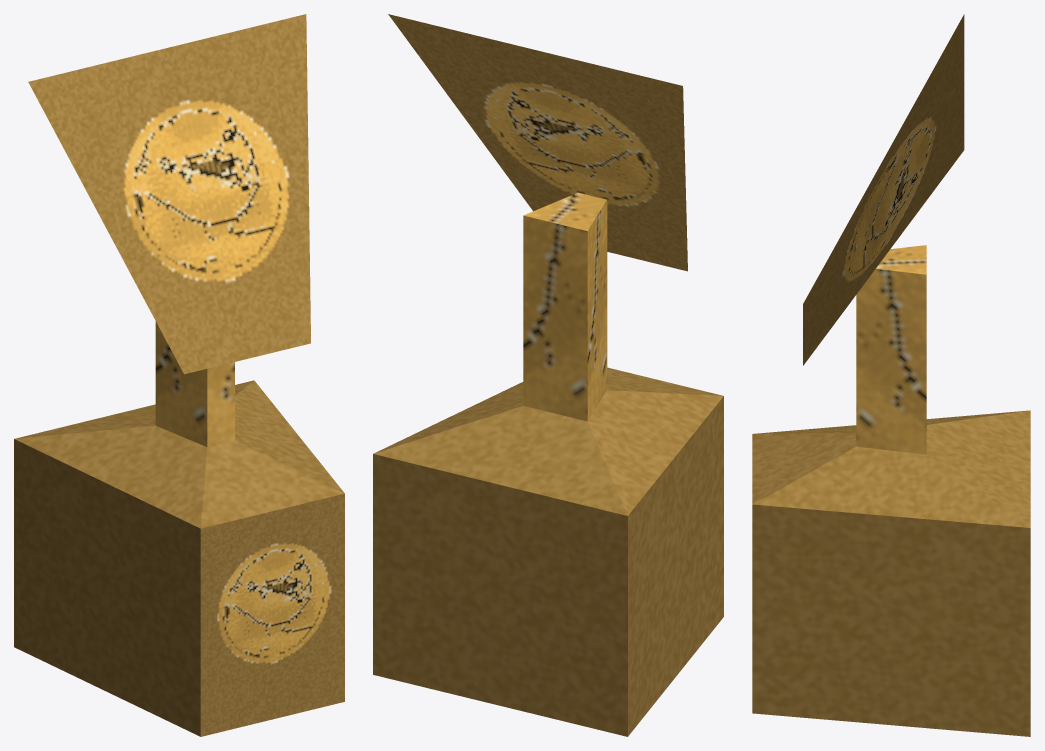
The model's file is lowpolybust.glb.
The picture shows the model from 3 angles, left to right: view 1: azimuth 30°, elevation 25°; view 2: azimuth 150°, elevation 25°; view 3: azimuth 270°, elevation 25°; orthographic projection. The views are drawn at different scales.
Parts seen in each view (by area): view 1: Cube; view 2: Cube; view 3: Cube.
Boxes of the visible parts, <box> form: Cube: <box>14,14,344,736</box>; Cube: <box>373,14,723,736</box>; Cube: <box>752,14,1030,736</box>.
Bounding box in the file's own units: 2.32 × 4.73 × 2.
1 material, 1 textured.
